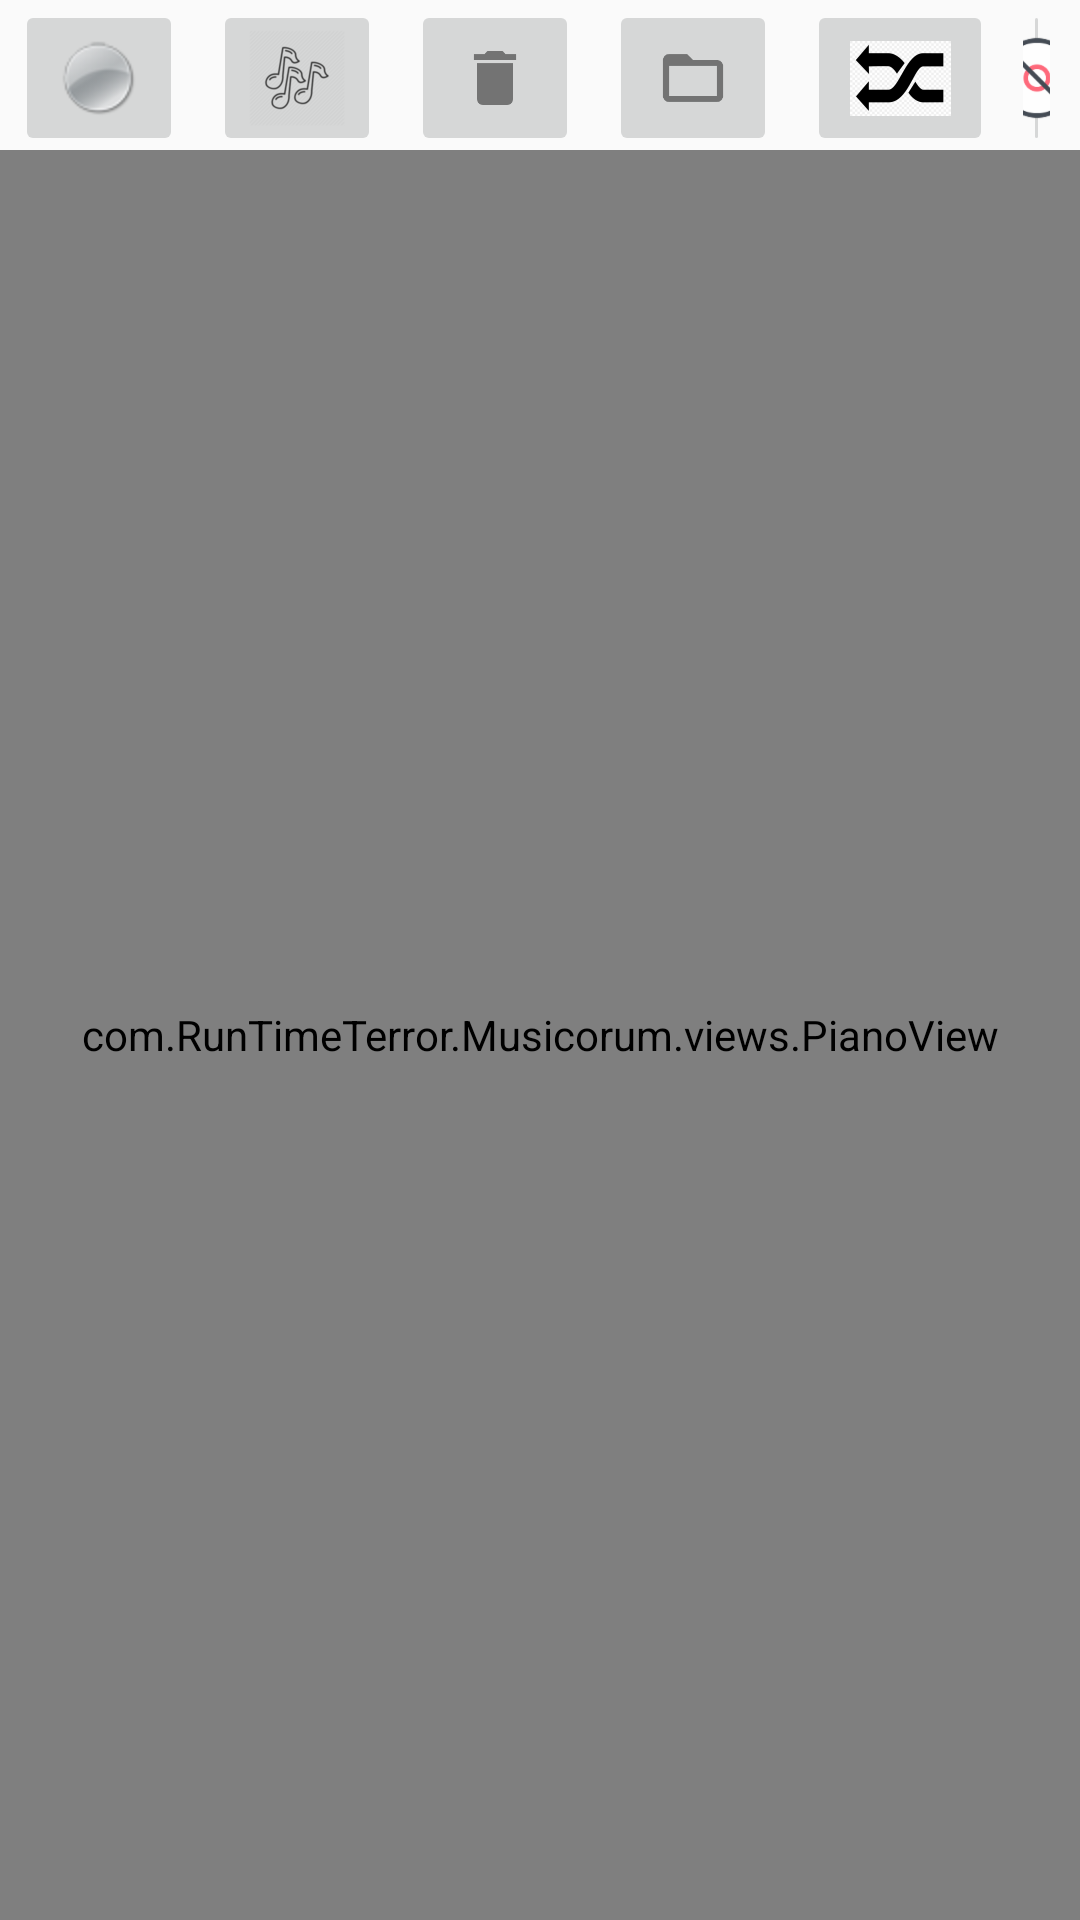

Named icons in this screenshot (1080w x 1920h) and their centers, [x,y]:
RAZ: [495,78]
Record: [99,78]
